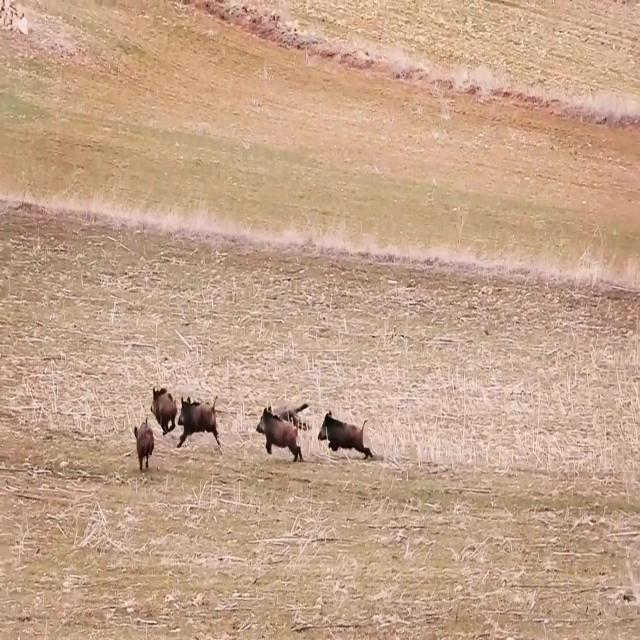pig: (314, 396, 391, 494), (256, 391, 300, 485), (130, 405, 163, 480), (180, 396, 227, 448), (148, 375, 176, 420)
